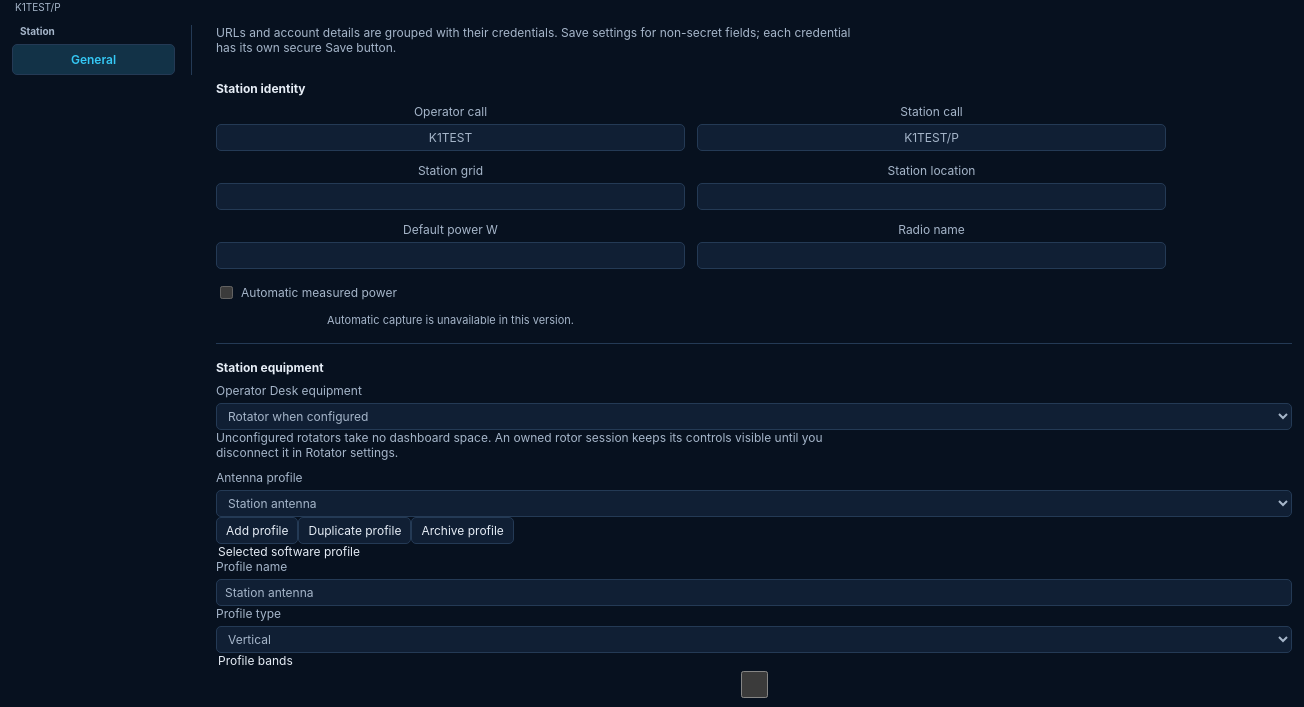
Test: retains workspace_changed recovery without success feedback or a post-save read
Replace the text in the field labelled "Station call" with "TEST1". click: [932, 138]
box: left=697, top=124, right=1166, bottom=151
(page scrolled)
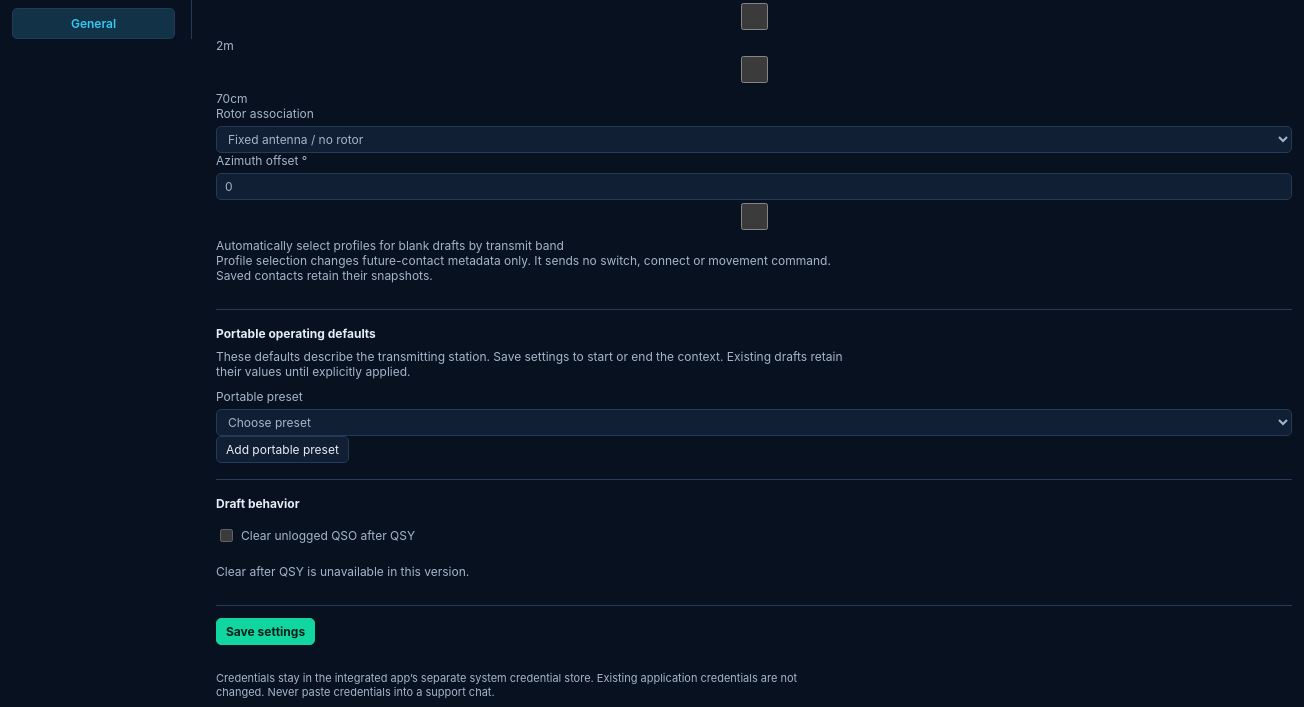
Click the button "Save settings". click: [266, 632]
box: left=216, top=618, right=315, bottom=645
(page scrolled)
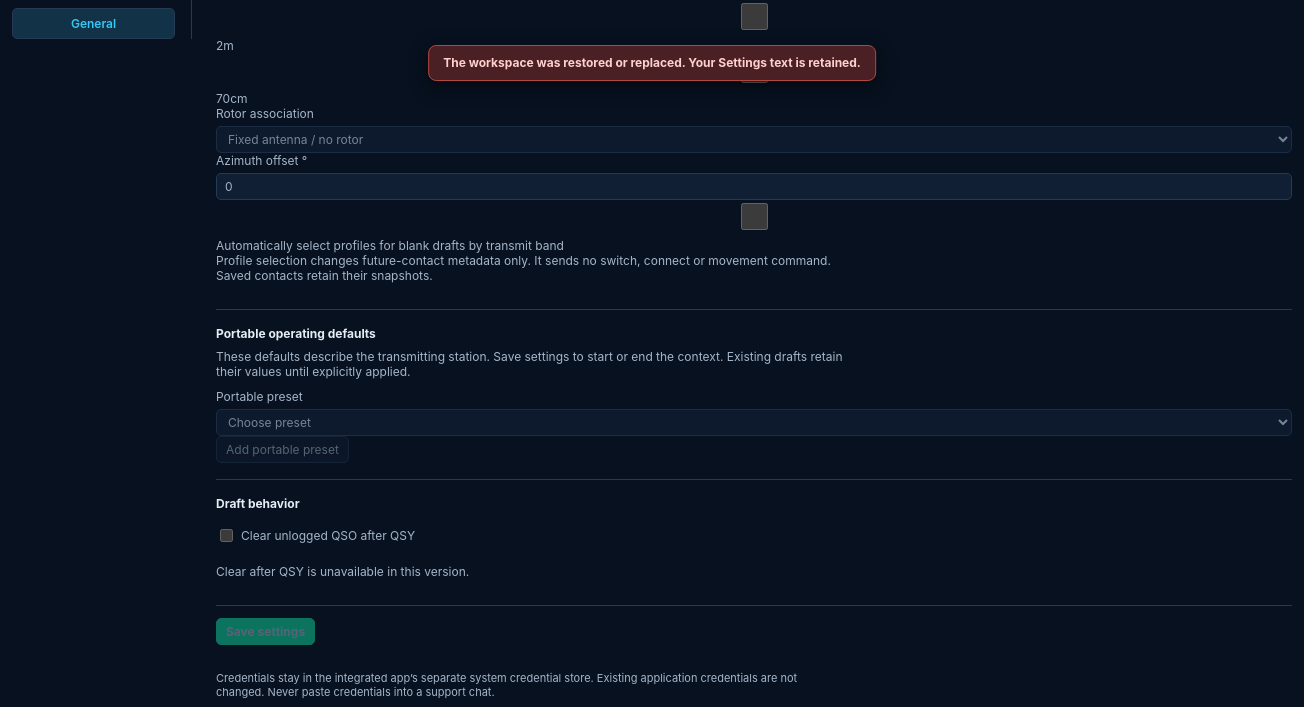
Expected: the message "The workspace was restored or replaced. Your Settings text is retained." is shown, left=428, top=45, right=876, bottom=81
